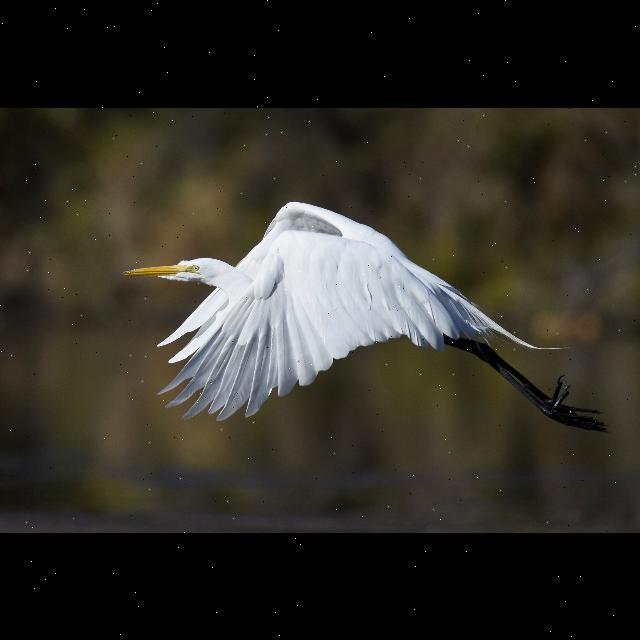egret: (115, 190, 607, 452)
